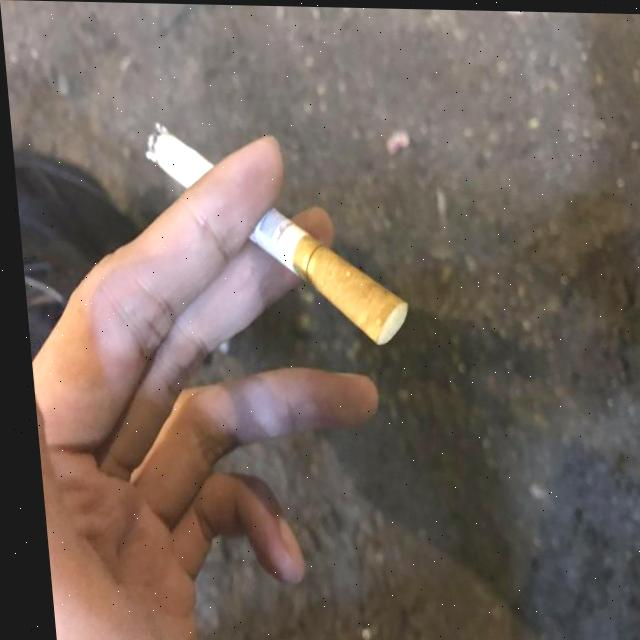cigarette: (143, 124, 406, 345)
